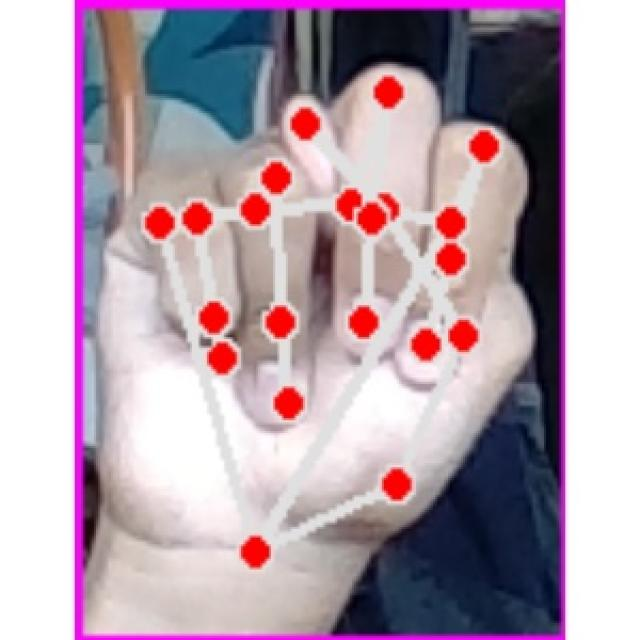N: (94, 53, 539, 578)
